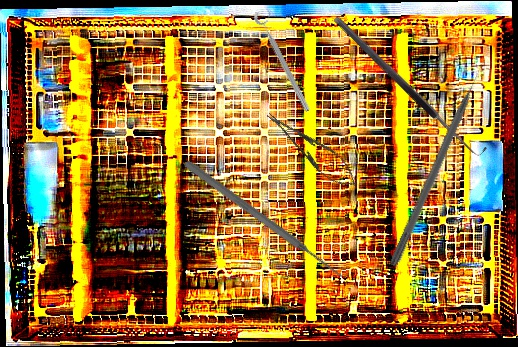Fixation Ring: (251, 6, 319, 114)
Hook Surgical: (331, 8, 489, 161)
Needle Holder: (259, 103, 365, 196)
Pusher: (388, 57, 491, 269), (181, 158, 347, 282)
